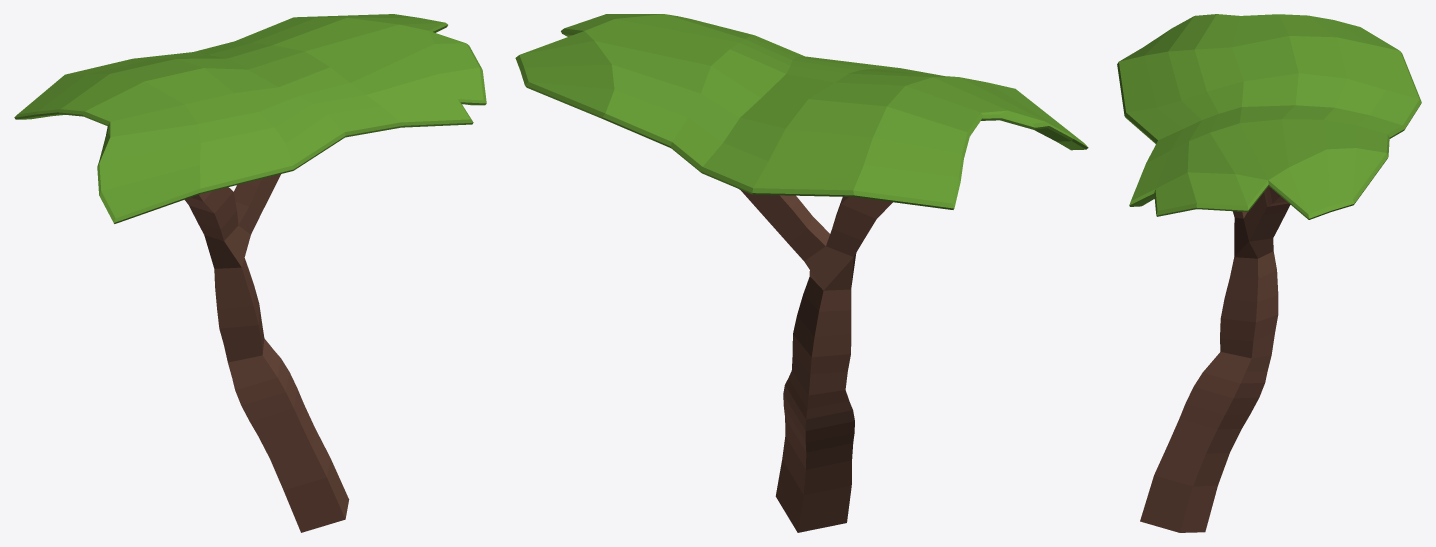
File: Level 4 tree 1.glb
3 views of the same model, side by side, from view 1: azimuth 30°, elevation 25°; view 2: azimuth 150°, elevation 25°; view 3: azimuth 270°, elevation 25° (orthographic). The views are drawn at different scales.
Visible parts, largest first — view 1: Cube; view 2: Cube; view 3: Cube.
Boxes of the visible parts, box(x1,y1,x2,y2) form: Cube: box(14, 14, 486, 532); Cube: box(515, 14, 1088, 532); Cube: box(1117, 14, 1421, 532).
Size of the model in its own units: 9.74 by 9.59 by 6.06.
